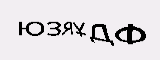Д: (88, 23, 115, 45)
З: (46, 20, 61, 38)
Ф: (114, 22, 147, 45)
Ю: (17, 20, 45, 38)
Я: (60, 20, 76, 37)
Ұ: (72, 20, 88, 38)
